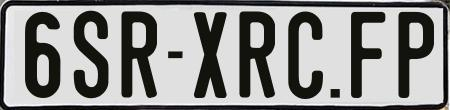6: (24, 12, 64, 100)
C: (288, 11, 329, 99)
F: (349, 11, 388, 100)
P: (396, 9, 432, 98)
R: (118, 10, 157, 97), (237, 10, 274, 101)
S: (74, 9, 109, 102)
X: (191, 9, 230, 99)
